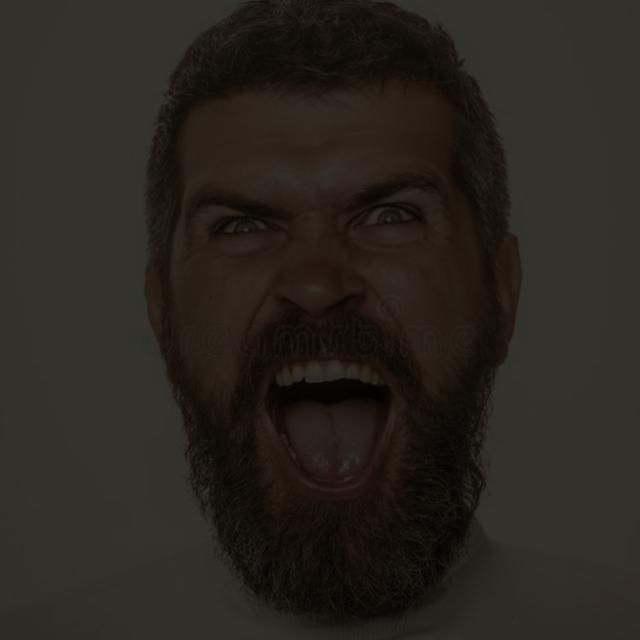Angry: (117, 56, 523, 582)
